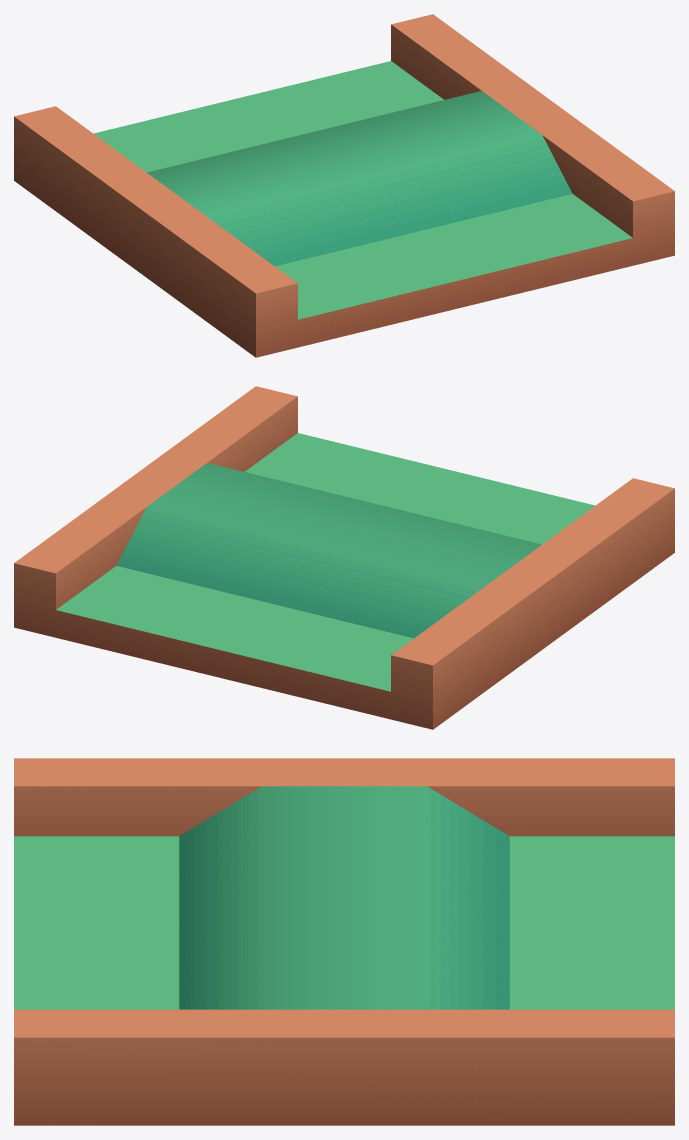
The model's file is hill-square.glb.
3 renders of one model, top to bottom at view 1: azimuth 30°, elevation 25°; view 2: azimuth 150°, elevation 25°; view 3: azimuth 270°, elevation 25°, orthographic. The views are drawn at different scales.
Visible parts, largest first — view 1: hill-square; view 2: hill-square; view 3: hill-square.
Boxes of the visible parts, x1=… form: hill-square: x1=14, y1=14, x2=674, y2=357; hill-square: x1=14, y1=386, x2=674, y2=729; hill-square: x1=14, y1=758, x2=674, y2=1125.
Size of the model in its own units: 0.9999 by 0.1467 by 0.9999.
1 material, 1 textured.
